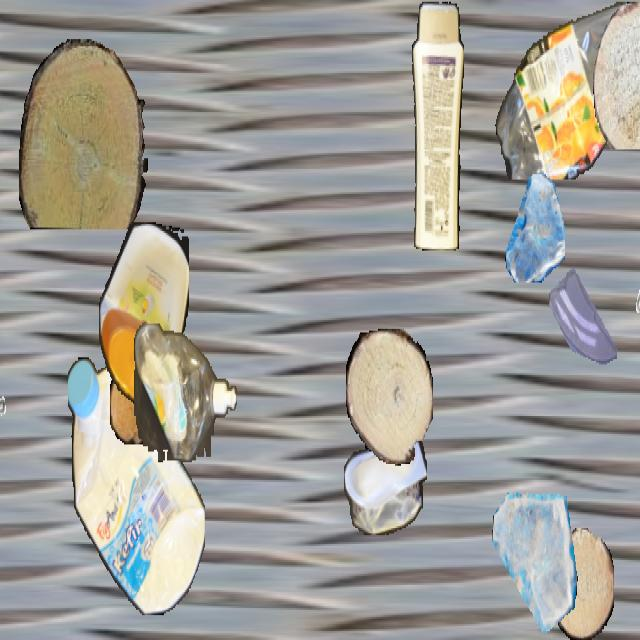glass: (491, 486, 577, 638), (549, 256, 617, 377), (504, 174, 564, 281)
metal: (611, 272, 640, 354), (0, 343, 15, 446)
plastic: (68, 356, 204, 615), (494, 2, 640, 180), (99, 222, 189, 404), (134, 324, 236, 462), (409, 2, 463, 250), (344, 427, 426, 533)
wood: (19, 39, 147, 228), (346, 329, 432, 464), (593, 2, 640, 148), (552, 528, 614, 638), (110, 362, 154, 444)
